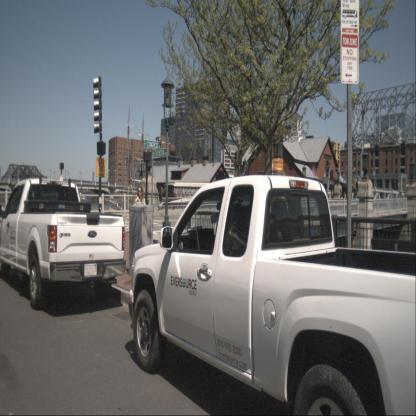human-pedestrian-adult: (134, 186, 146, 259), (159, 186, 163, 210)
vehicle-truck: (128, 174, 416, 415), (0, 178, 126, 310)
